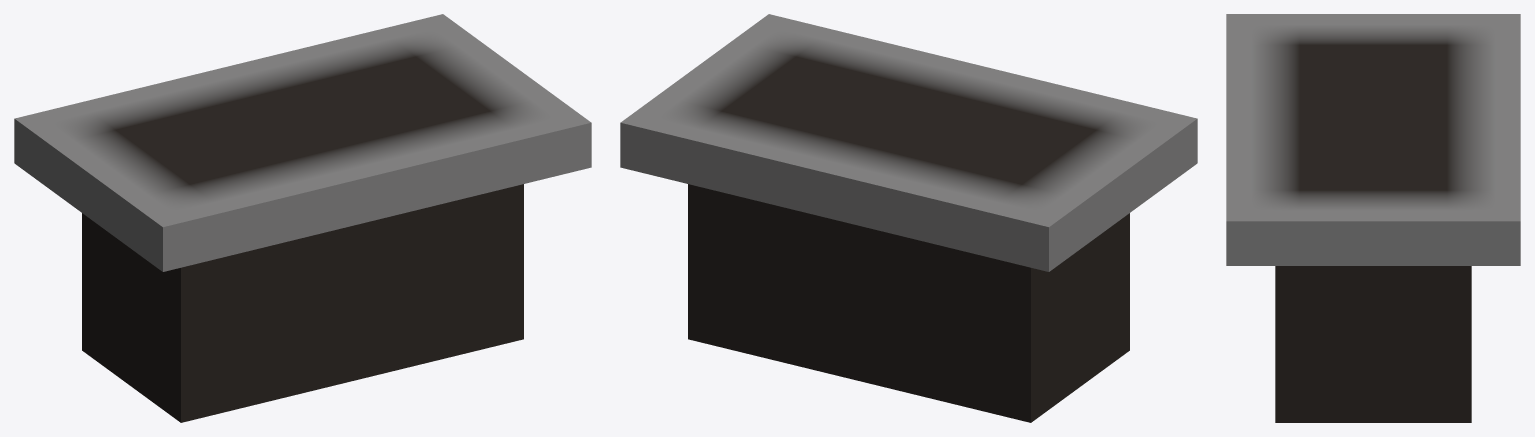
File: patches_pelvis.fbx
3 renders of one model, left to right at view 1: azimuth 30°, elevation 25°; view 2: azimuth 150°, elevation 25°; view 3: azimuth 270°, elevation 25°, orthographic.
Parts seen in each view (by area): view 1: patches_pelvis; view 2: patches_pelvis; view 3: patches_pelvis.
Part boxes in pixels (left/top/right/bottom): patches_pelvis: left=14, top=14, right=591, bottom=422; patches_pelvis: left=620, top=14, right=1197, bottom=422; patches_pelvis: left=1226, top=14, right=1520, bottom=422.
Size of the model in its own units: 10 by 5 by 6.
Materials: 1 (1 with a texture image).
